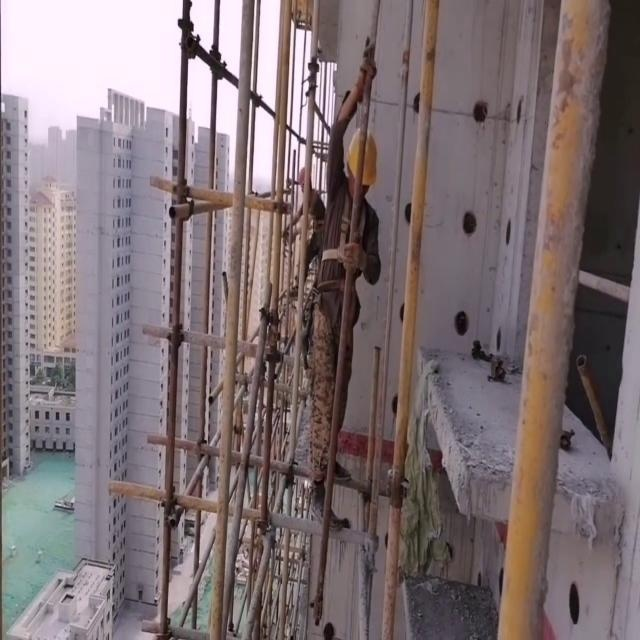Arnes_seguridad: (320, 189, 374, 279)
